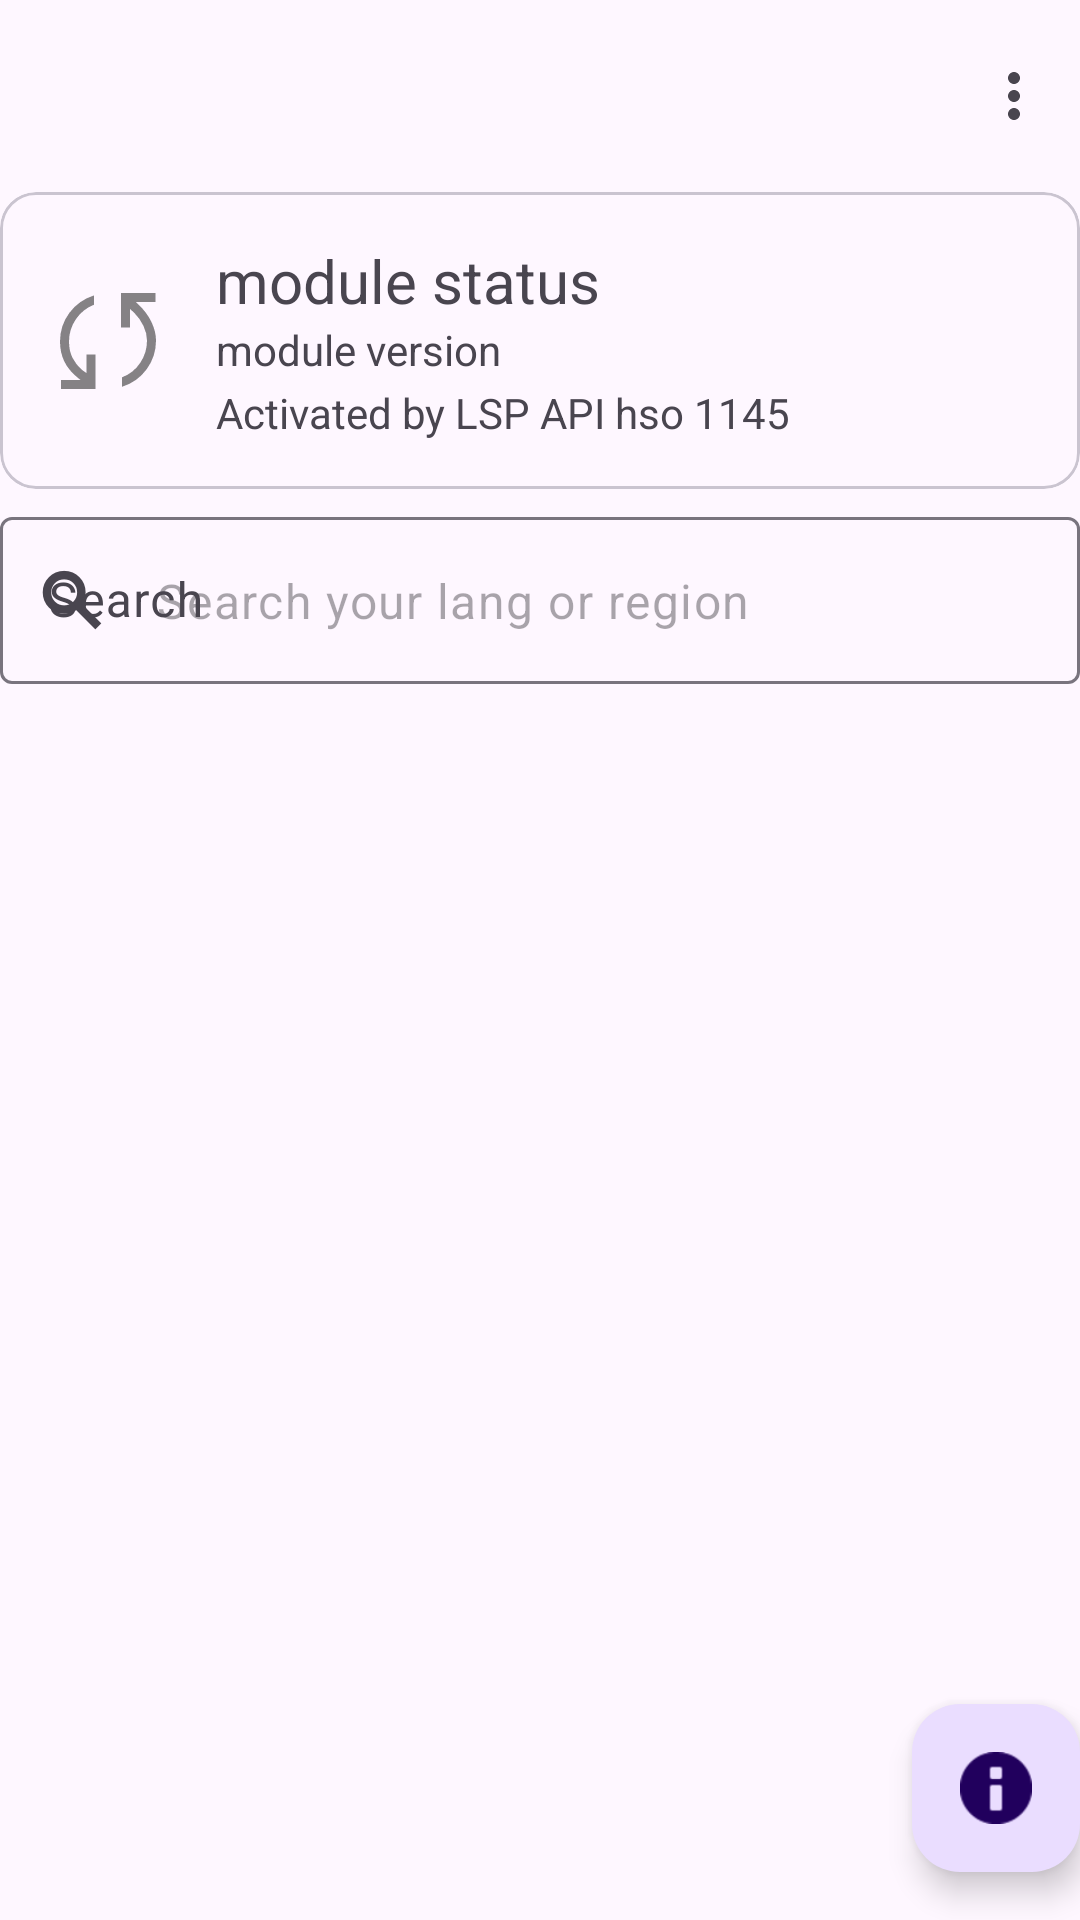

Point at icon controls on the screen. Image size 1080 x 1920, points as (x,y).
About: (996,1788)
